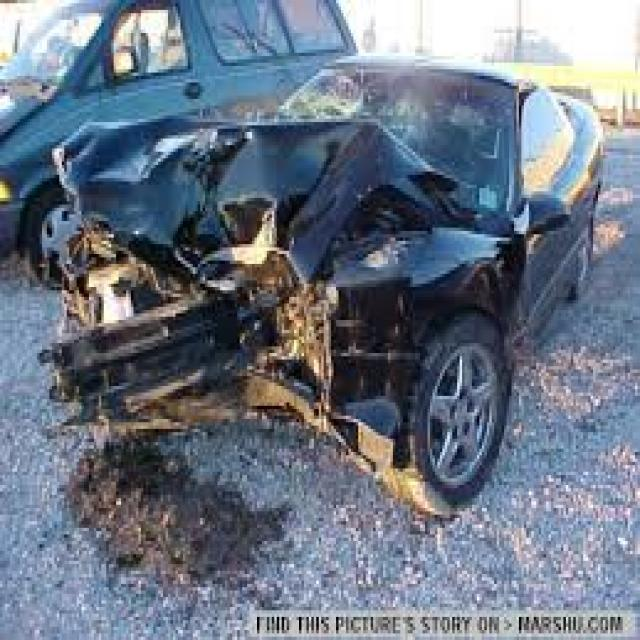severe: (46, 11, 611, 504)
